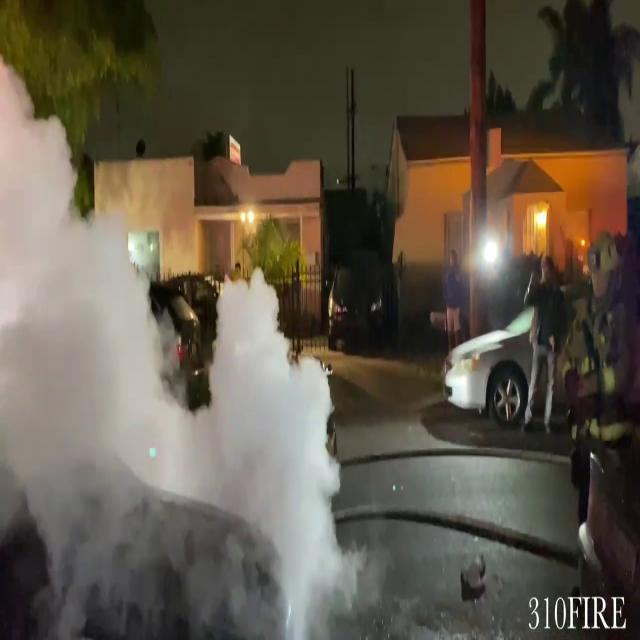Smoke: (0, 11, 374, 639), (1, 207, 373, 638)
